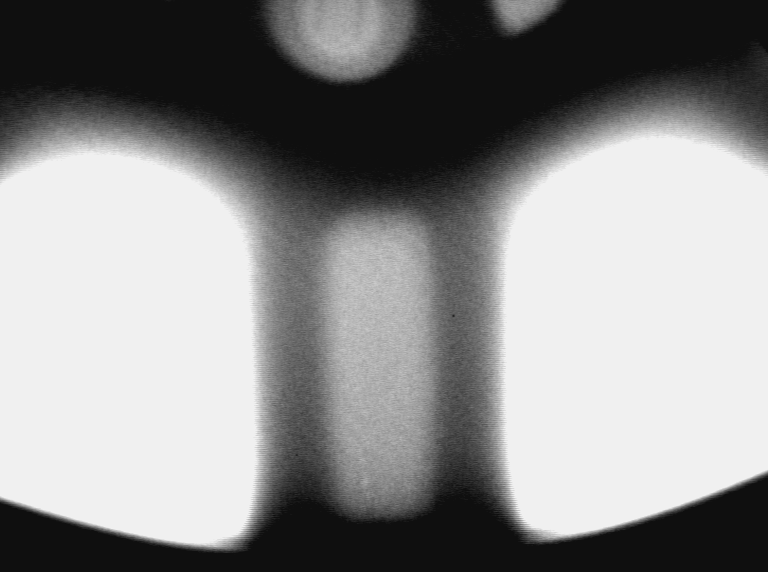defect: (351, 455, 379, 494)
